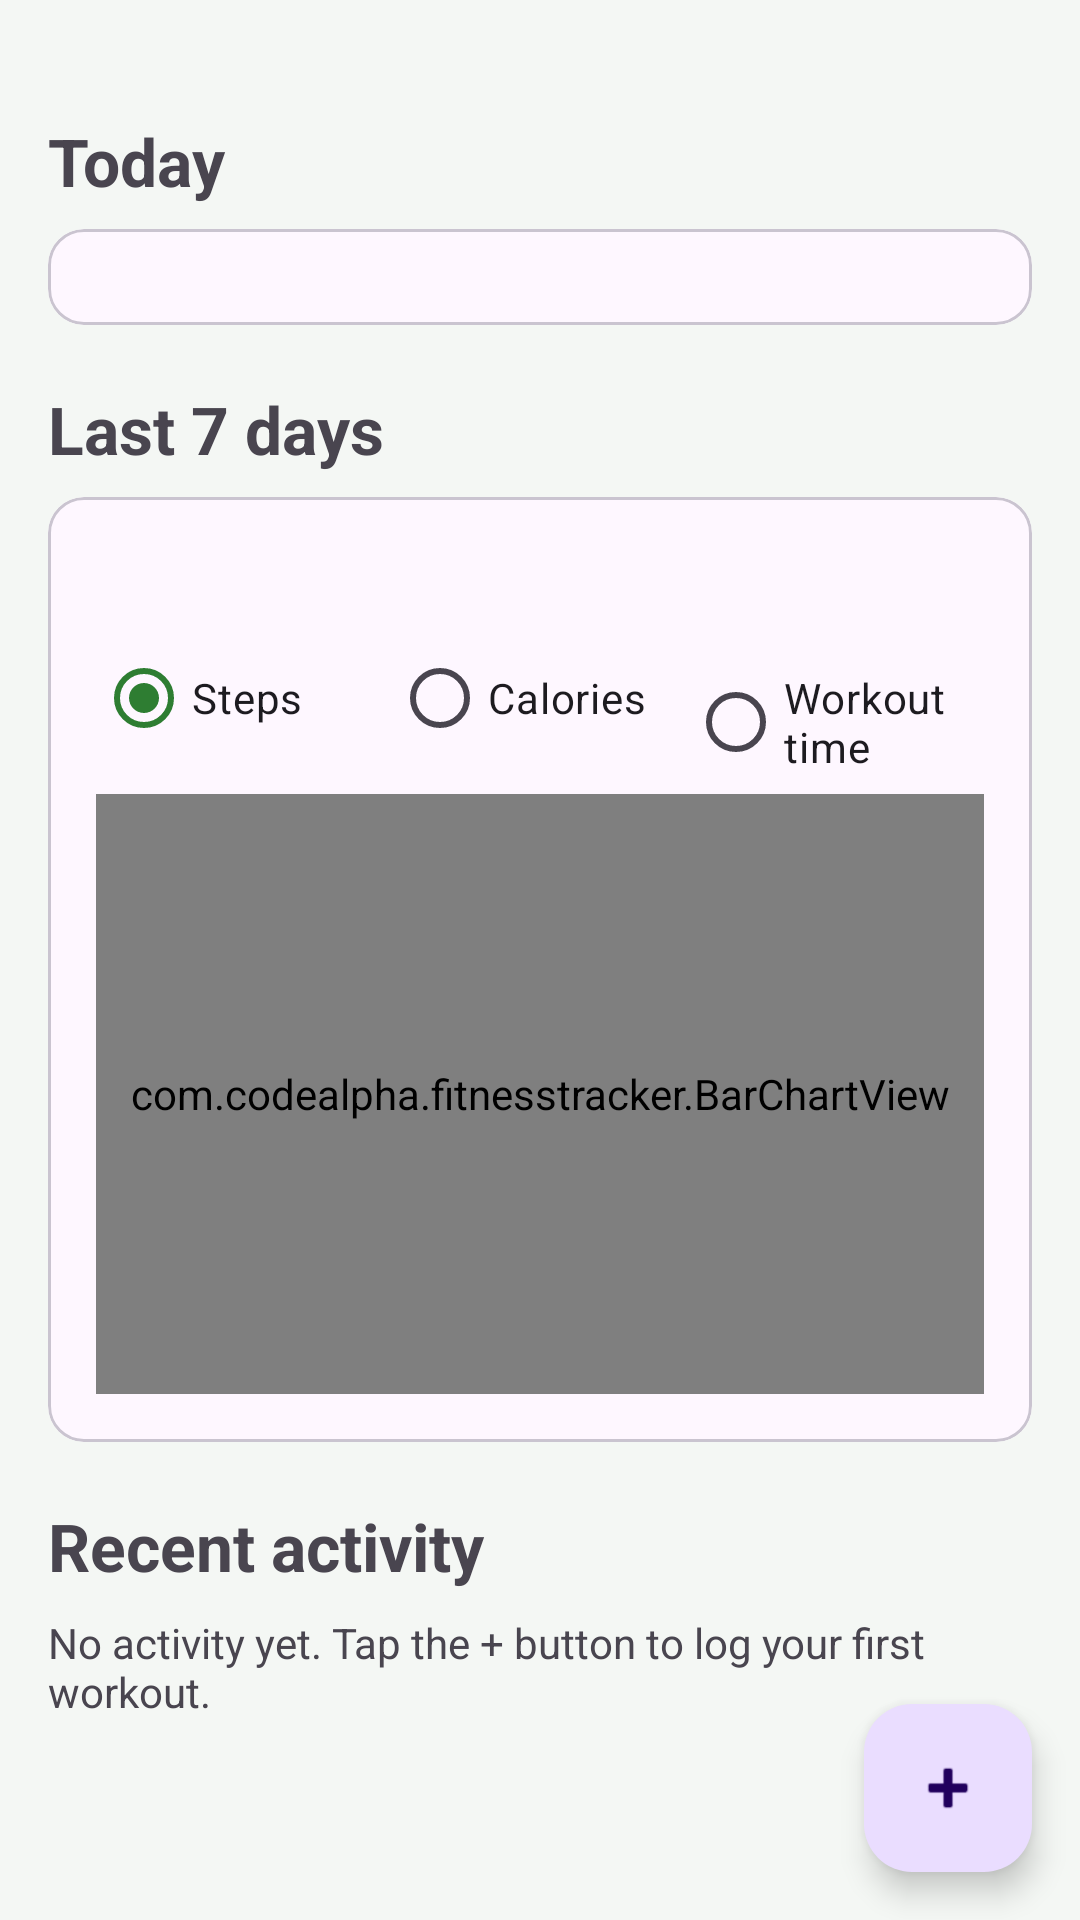

Named icons in this screenshot (1080×1920) and their bounding boxes, bbox(x1, y1, x2, y2):
Add activity: bbox(864, 1704, 1032, 1872)
